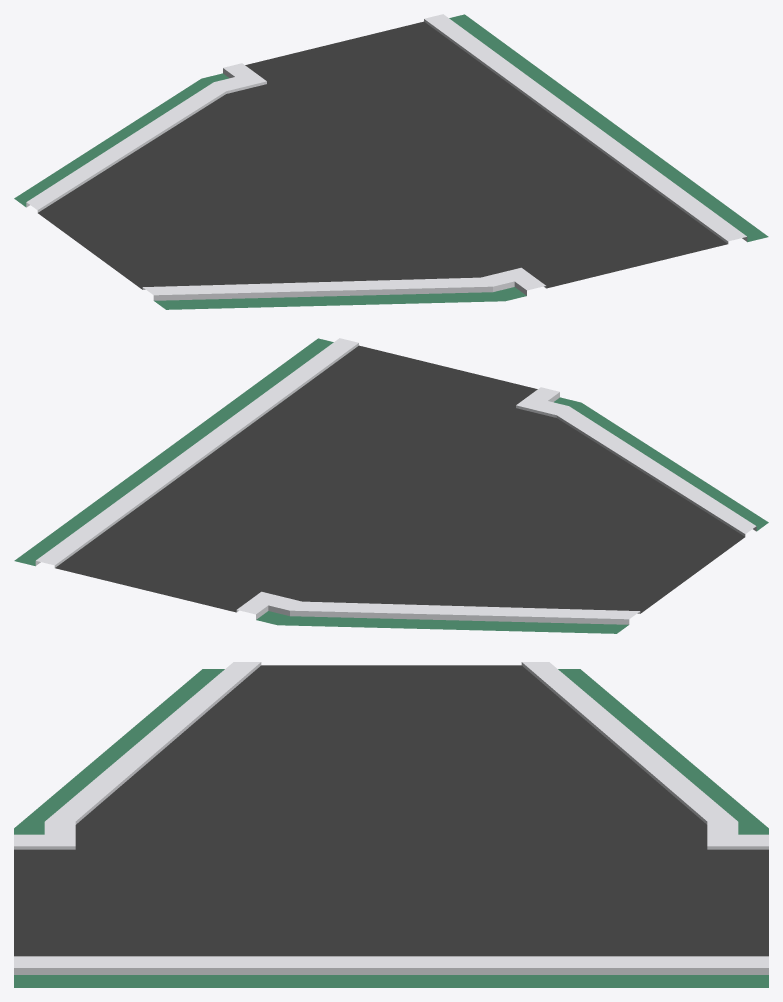
File: roadSide.obj
3 renders of one model, top to bottom at view 1: azimuth 30°, elevation 25°; view 2: azimuth 150°, elevation 25°; view 3: azimuth 270°, elevation 25°, orthographic. The views are drawn at different scales.
Visible parts, largest first — view 1: roadSide; view 2: roadSide; view 3: roadSide.
Boxes of the visible parts, x1,y1,x2,y2 form: roadSide: [14, 14, 768, 309]; roadSide: [14, 338, 768, 633]; roadSide: [14, 662, 768, 987].
Size of the model in its own units: 2 by 0.02 by 2.
